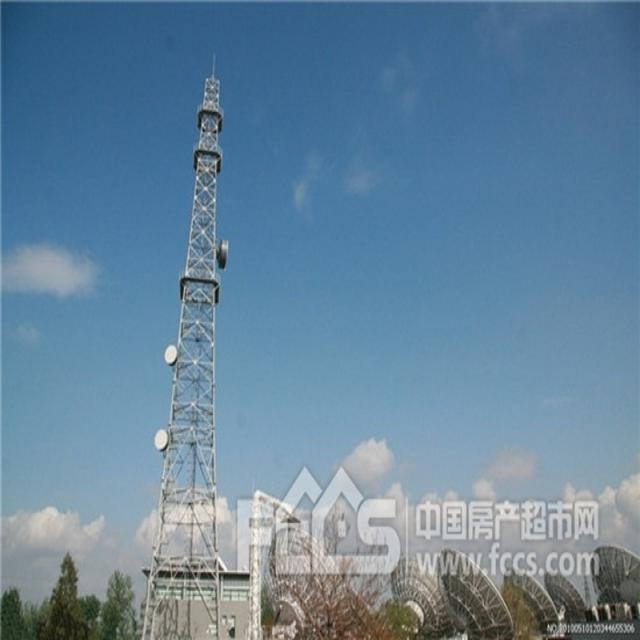non-critical vegetation: (139, 50, 237, 631)
